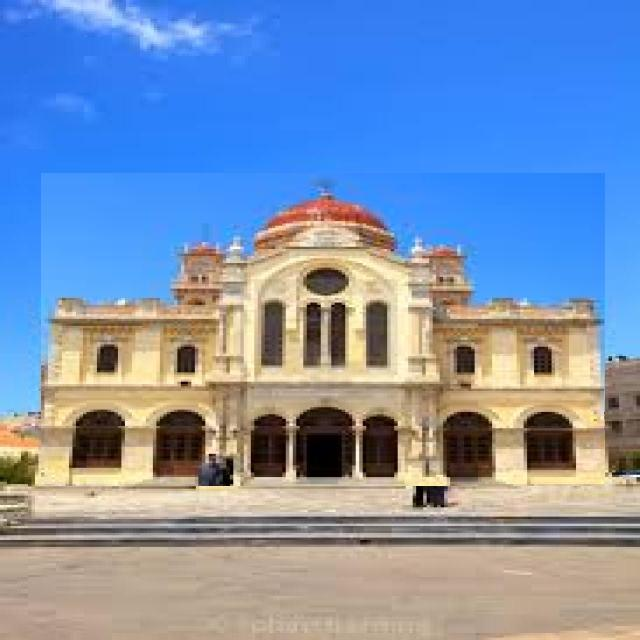Agios Minas: (42, 174, 606, 487)
